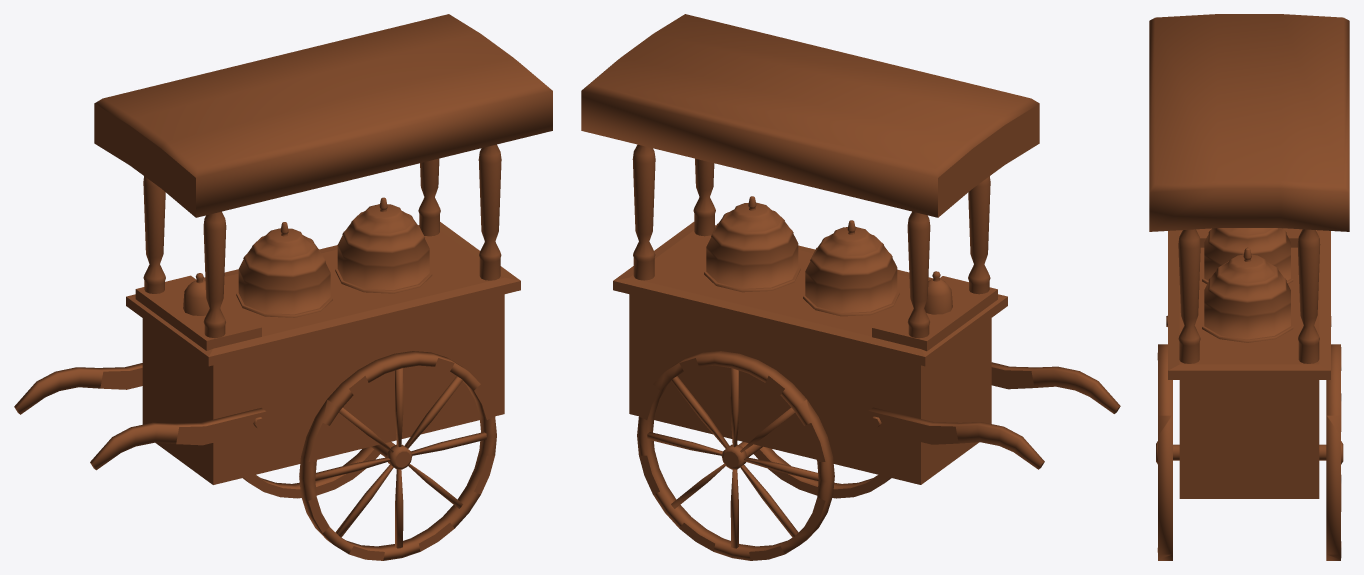
File: me_cart01-01.dae
3 views of the same model, side by side, from view 1: azimuth 30°, elevation 25°; view 2: azimuth 150°, elevation 25°; view 3: azimuth 270°, elevation 25° (orthographic).
Visible parts, largest first — view 1: me_cart01-01; view 2: me_cart01-01; view 3: me_cart01-01.
Part boxes in pixels (x1,y1,x2,y2): me_cart01-01: [14, 14, 552, 560]; me_cart01-01: [581, 14, 1120, 560]; me_cart01-01: [1149, 14, 1349, 560].
Size of the model in its own units: 0.508 by 0.1992 by 0.4804.
